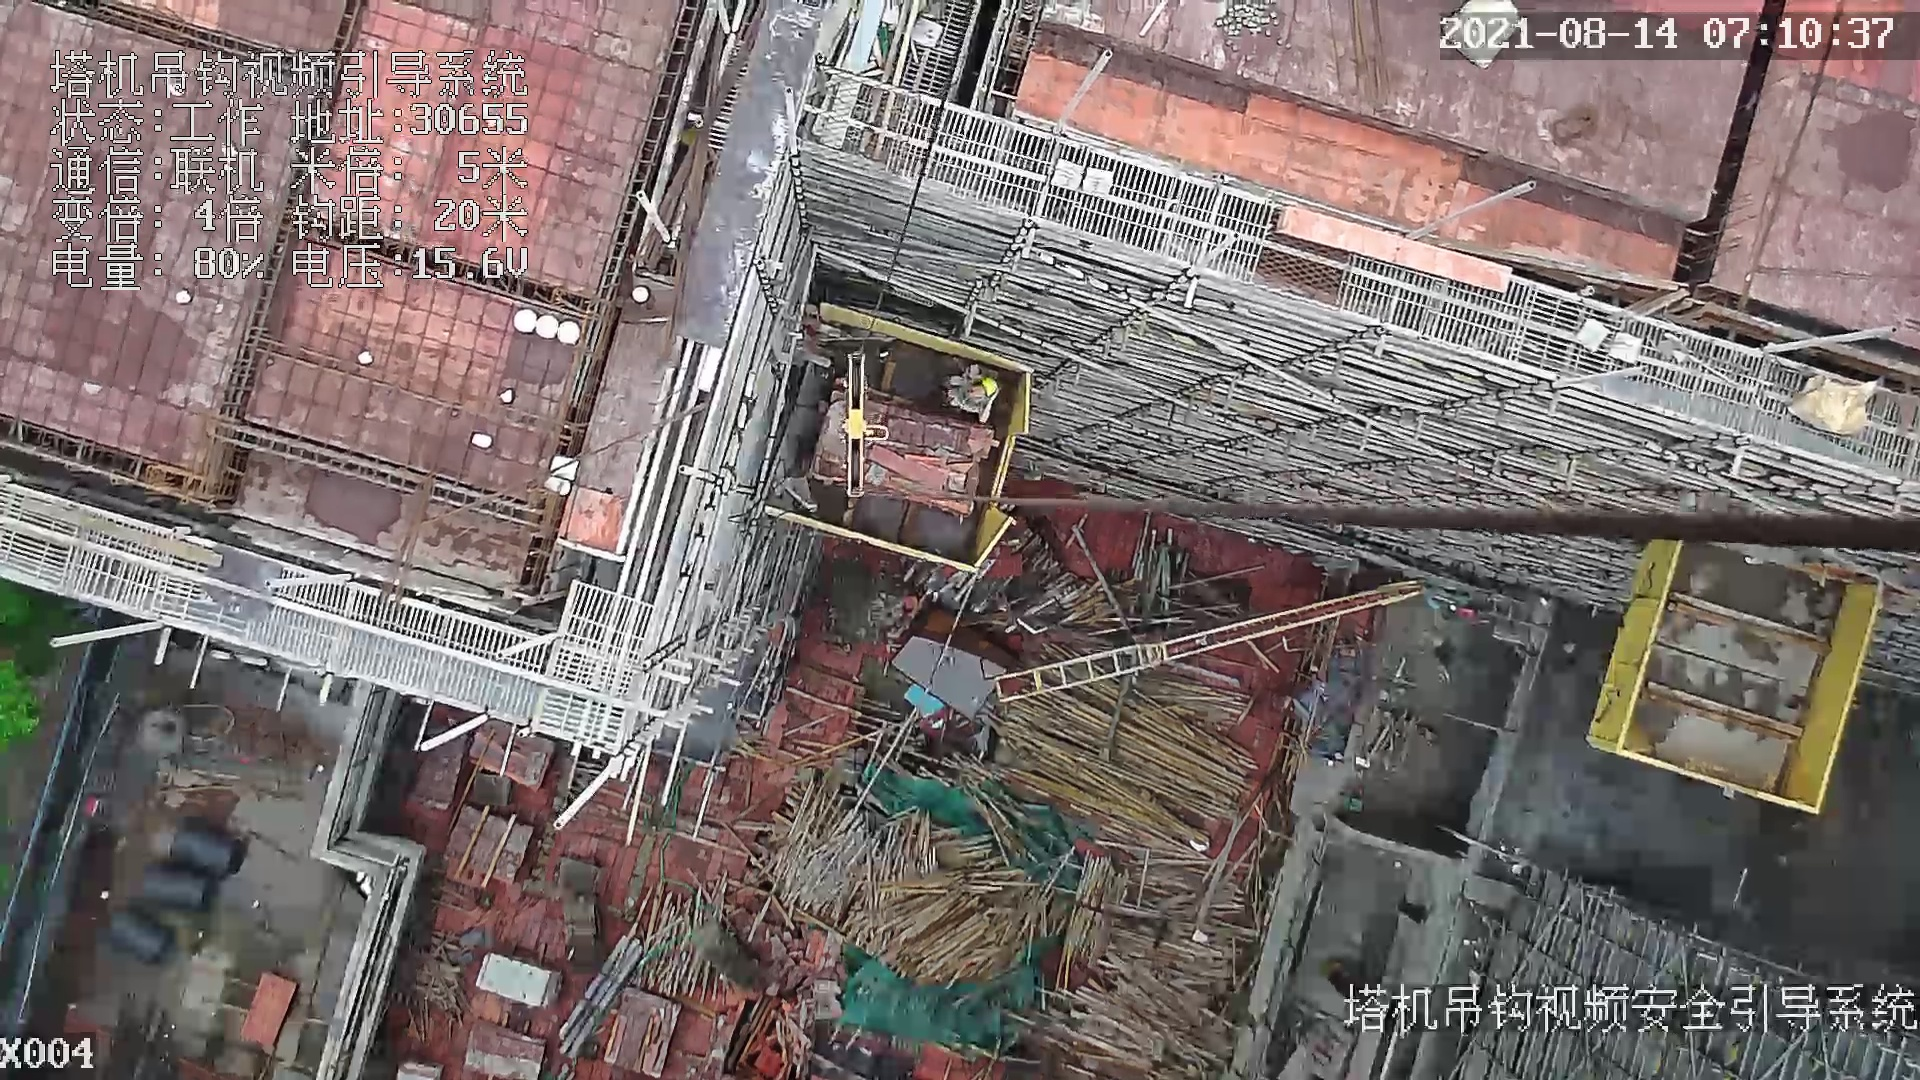helmet: (982, 375, 1000, 399)
hook: (828, 353, 891, 497)
person: (949, 368, 1005, 430)
